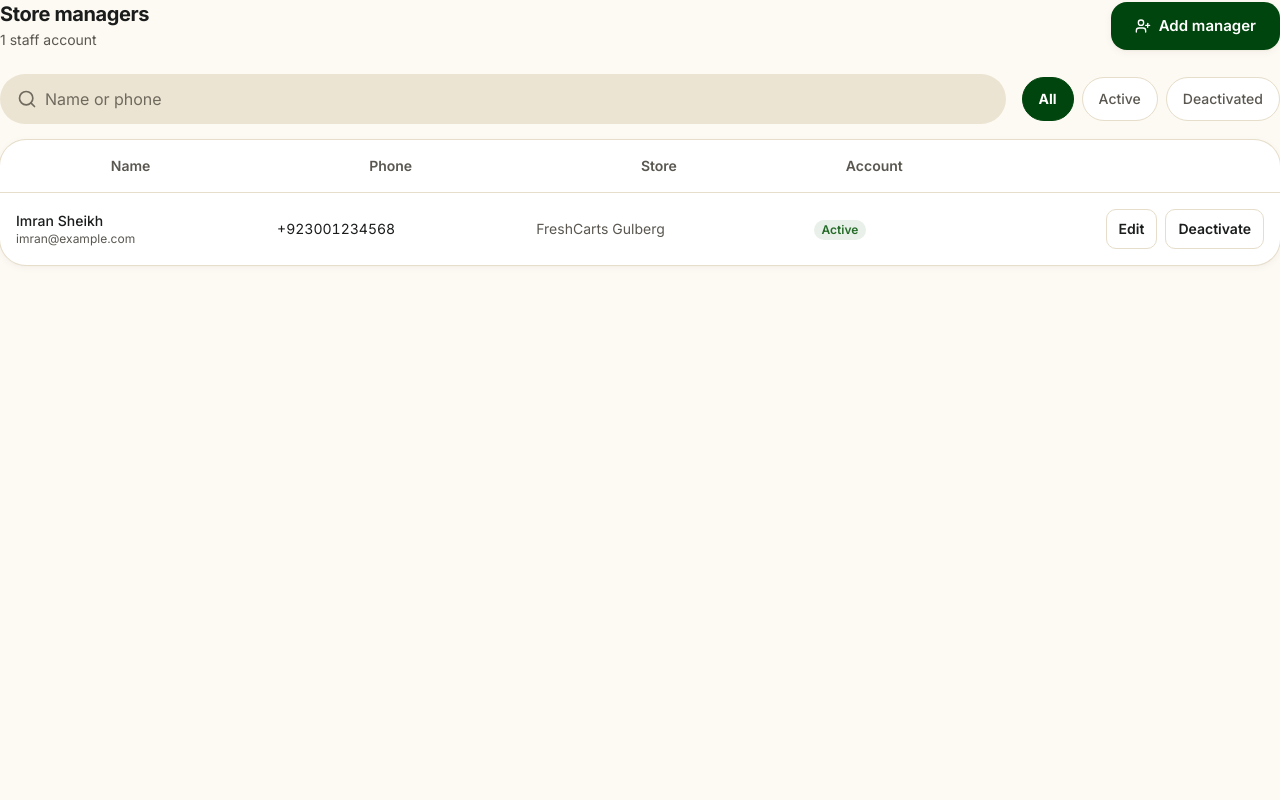
Test case: AdminStoreManagersScreen › does not offer a password field when editing
Expected: the table is shown, [0,140,1279,265]
Click the button "Edit".
click(1132, 229)  # box [1106,209,1157,249]
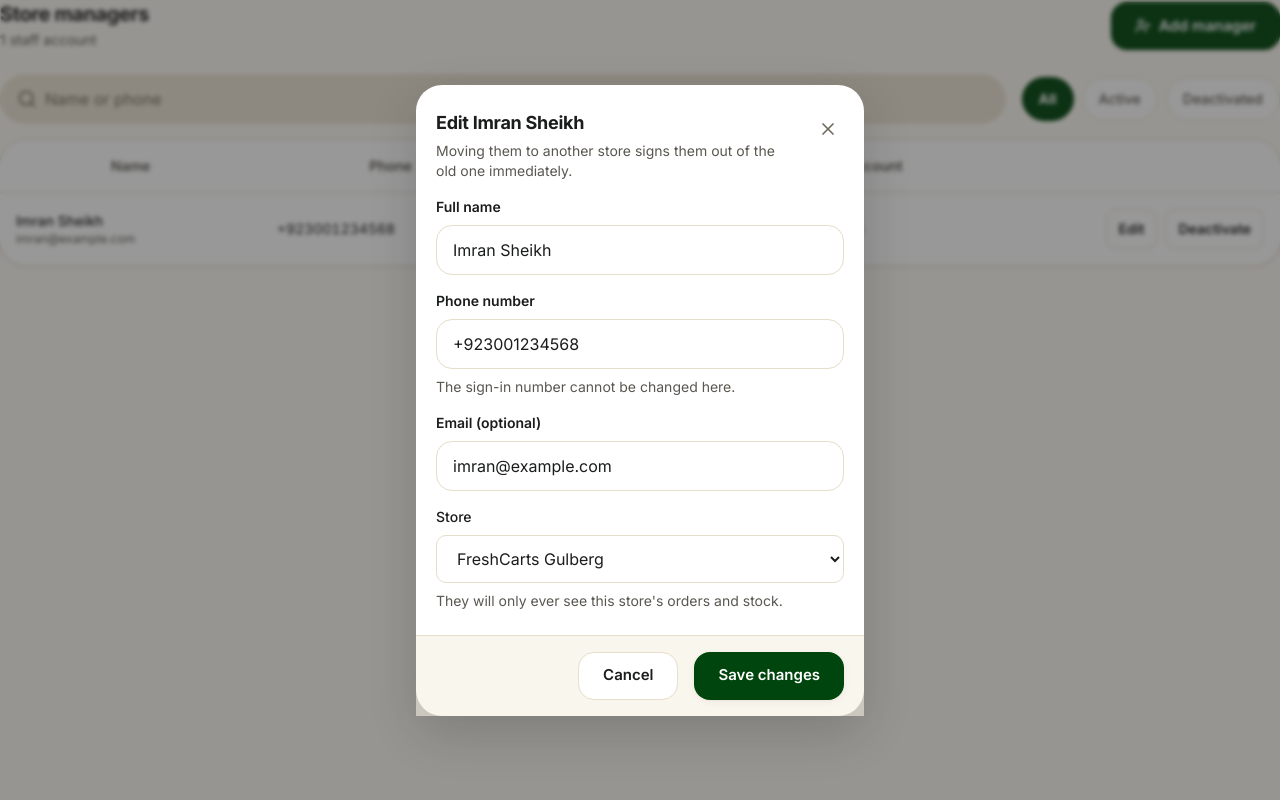
Expected: the field labelled "Phone number" is disabled, [453,320,827,368]
